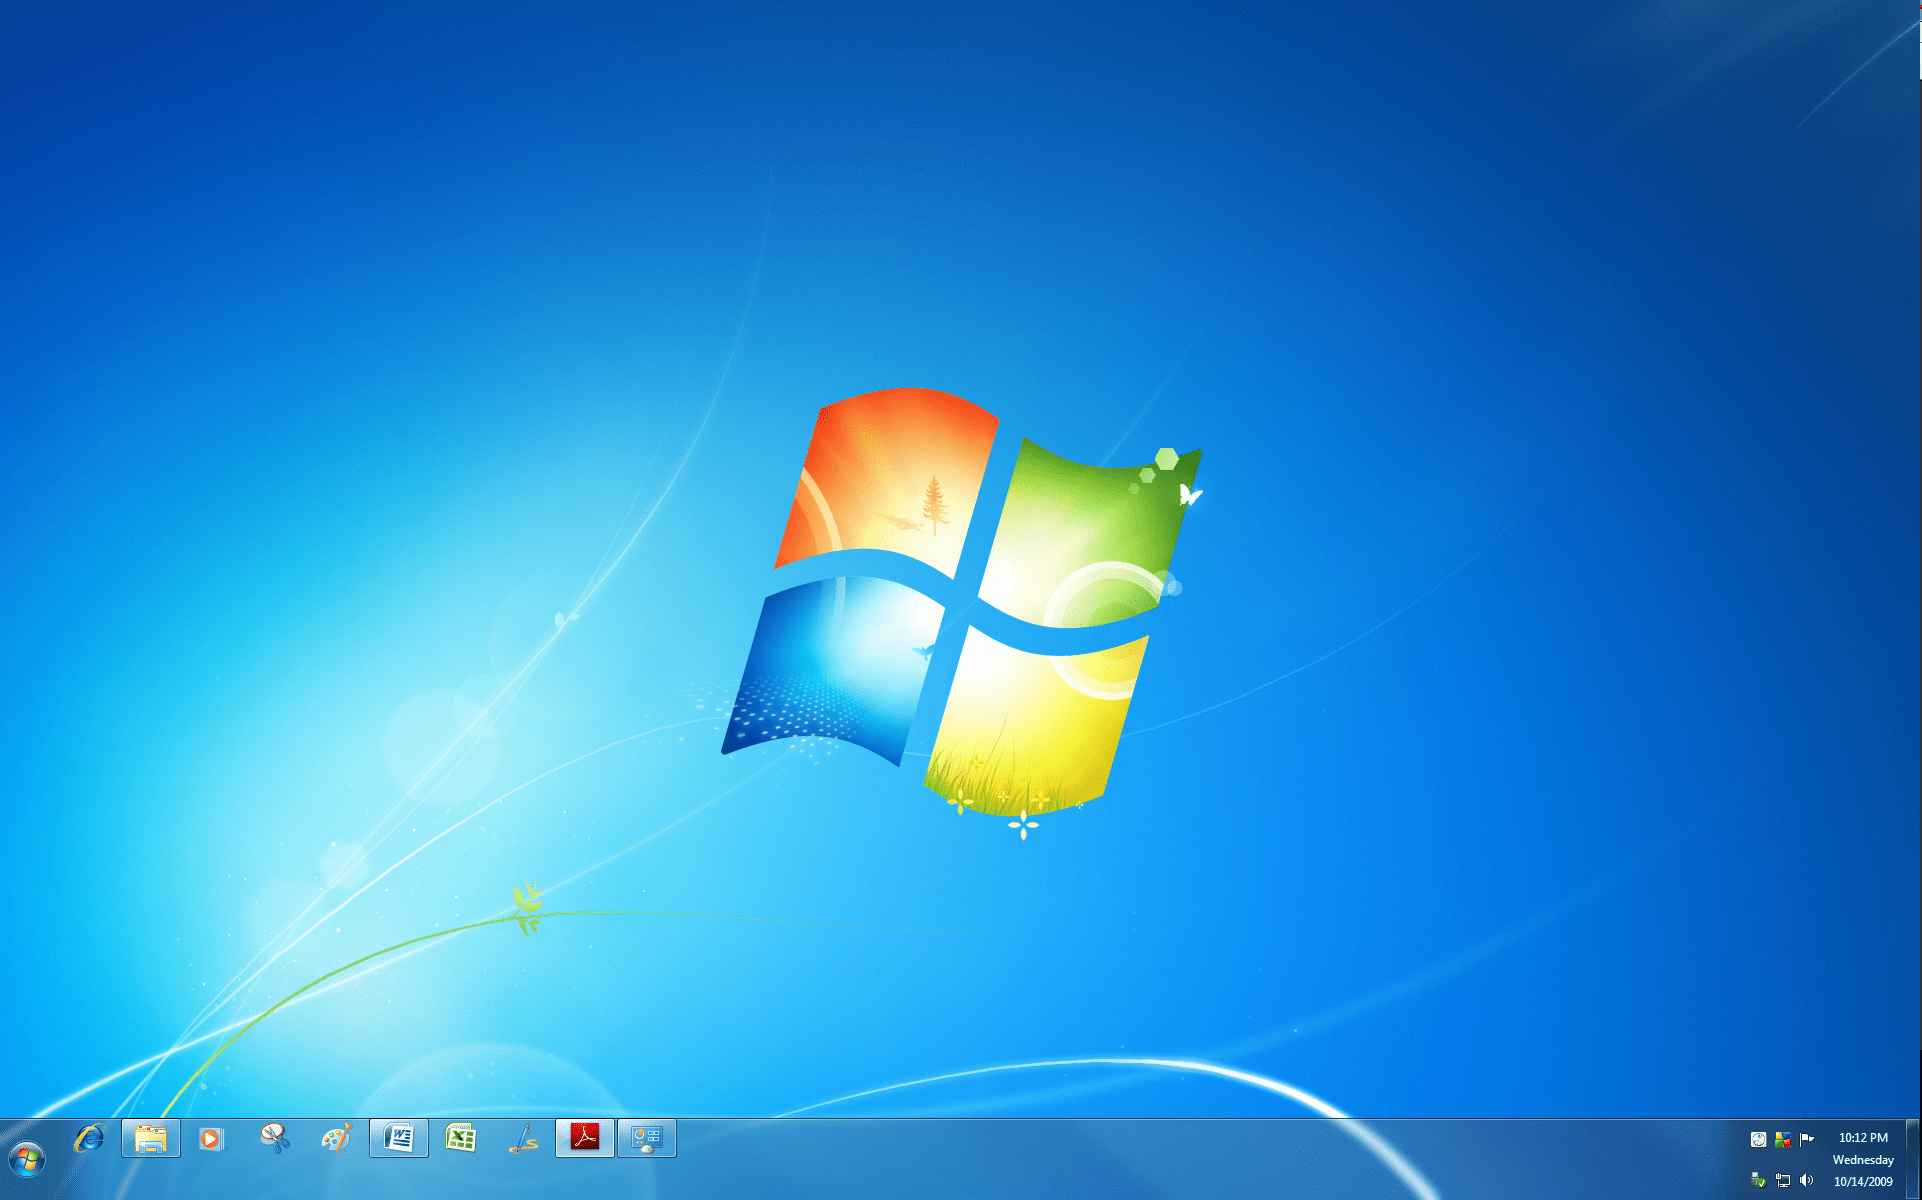start_bar: (8, 1134, 48, 1181)
